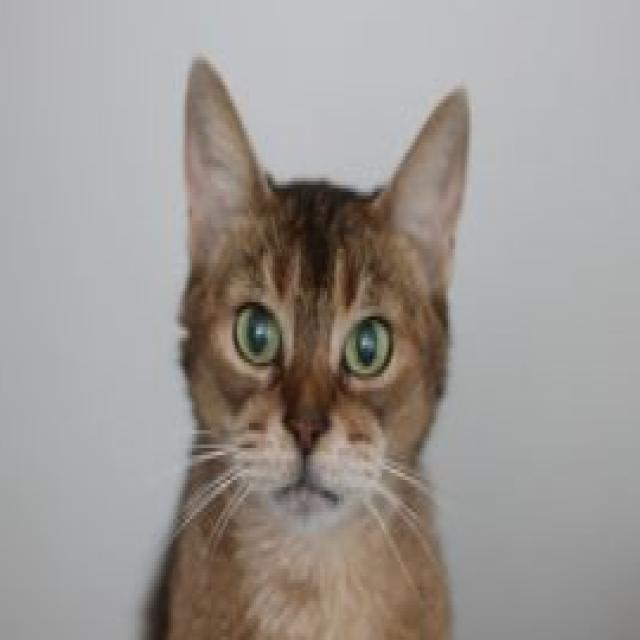Abyssinian: (123, 50, 484, 640)
